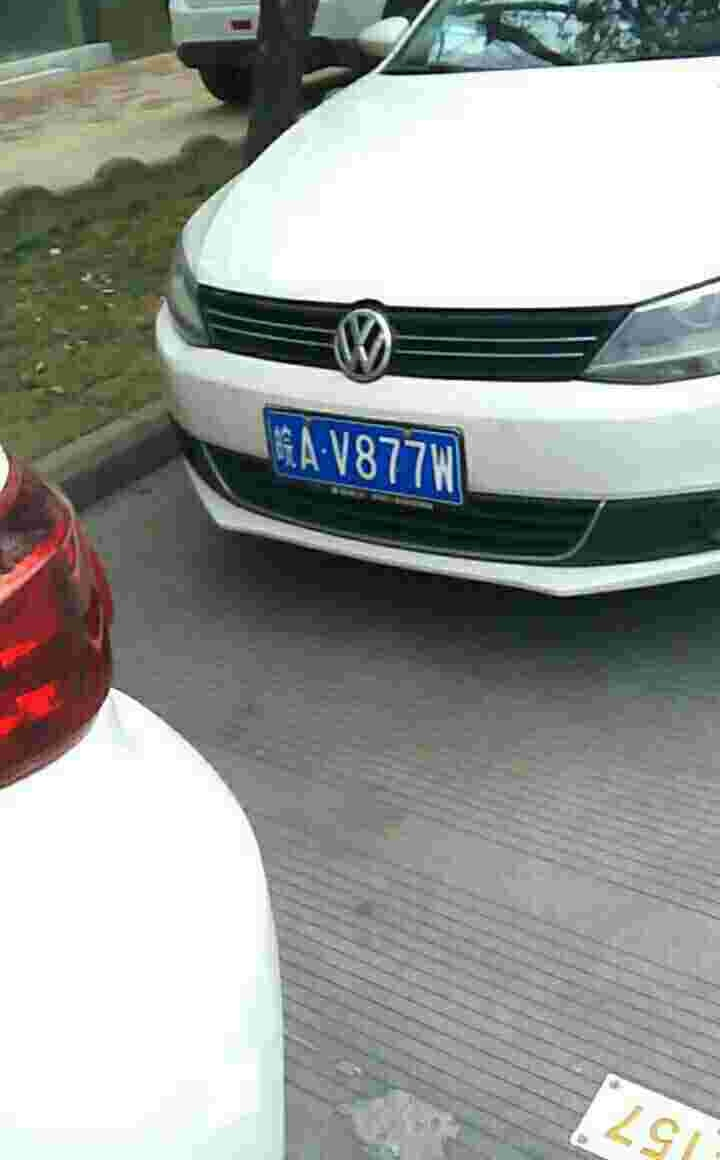plate: (264, 404, 466, 508)
